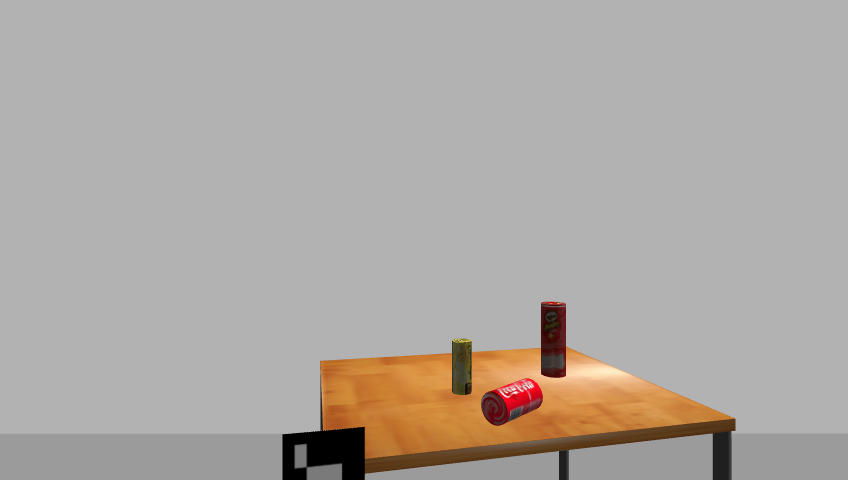aruco marker: (276, 427, 371, 480)
biscuits pack: (450, 338, 474, 396)
coke can: (477, 379, 545, 426)
dinner table: (310, 344, 745, 480)
pringles can: (538, 301, 569, 379)
